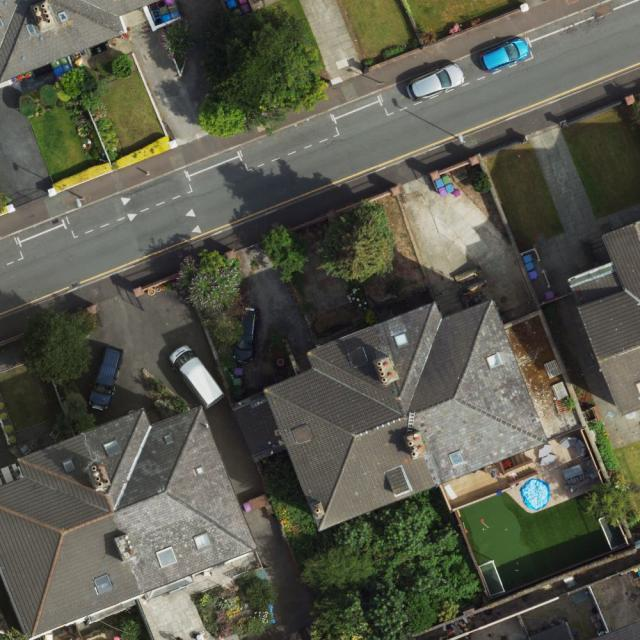roof: (265, 300, 547, 532), (0, 407, 259, 640), (0, 0, 162, 82), (577, 222, 640, 417)
skylight: (153, 542, 182, 569), (91, 571, 117, 597), (481, 349, 508, 370), (99, 437, 124, 459), (391, 329, 415, 350), (191, 530, 214, 550), (59, 456, 80, 476), (446, 446, 466, 467), (192, 463, 206, 477), (25, 23, 38, 38), (163, 431, 175, 446), (57, 9, 69, 23)
